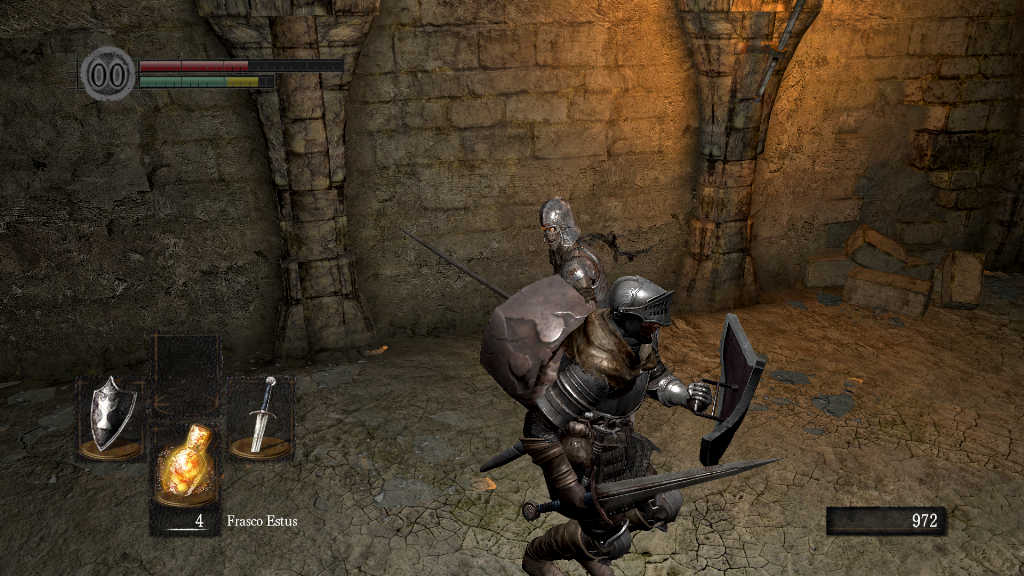health: (138, 58, 343, 71)
humanity: (80, 45, 136, 102)
player: (478, 270, 783, 576)
souls: (825, 506, 945, 536)
stamina: (138, 74, 274, 88)
undeadSoldier: (529, 196, 616, 306)
